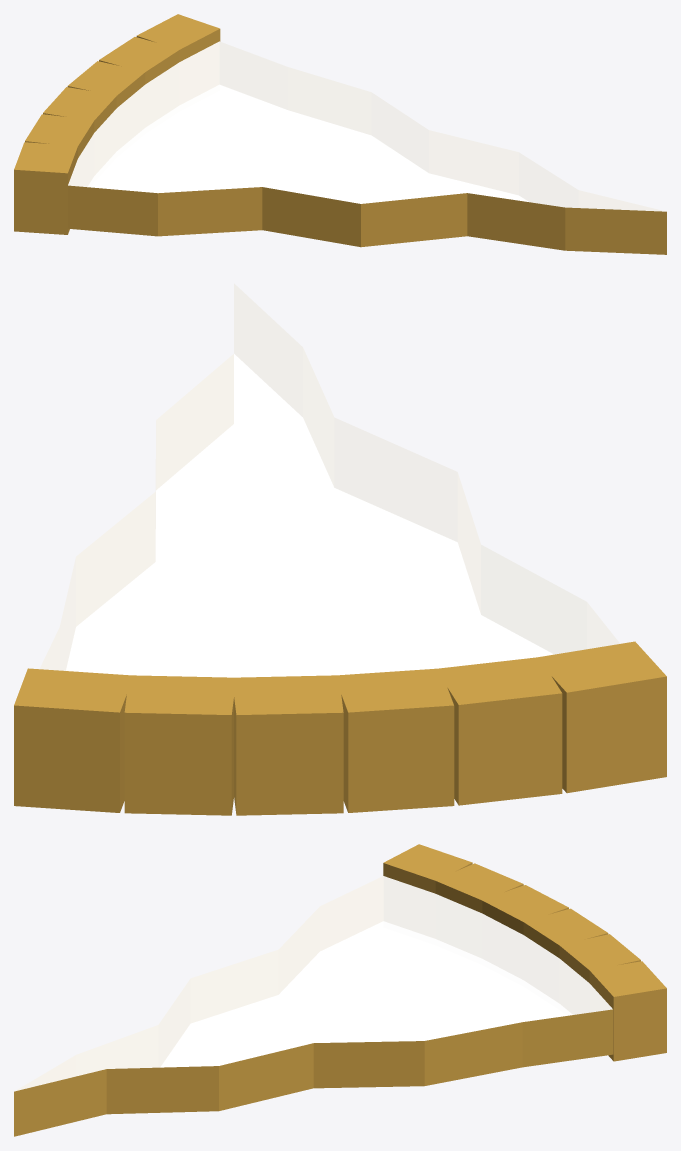
File: prop_compass_piece_04_v01.glb
The picture shows the model from 3 angles, top to bottom: view 1: azimuth 30°, elevation 25°; view 2: azimuth 150°, elevation 25°; view 3: azimuth 270°, elevation 25°; orthographic projection. The views are drawn at different scales.
Visible parts, largest first — view 1: piece_04; view 2: piece_04; view 3: piece_04.
Boxes of the visible parts, x1,y1,x2,y2 form: piece_04: (14,14,666,254); piece_04: (14,283,666,815); piece_04: (14,844,666,1136).
Bounding box in the file's own units: 0.3893 × 0.05 × 0.4581.
